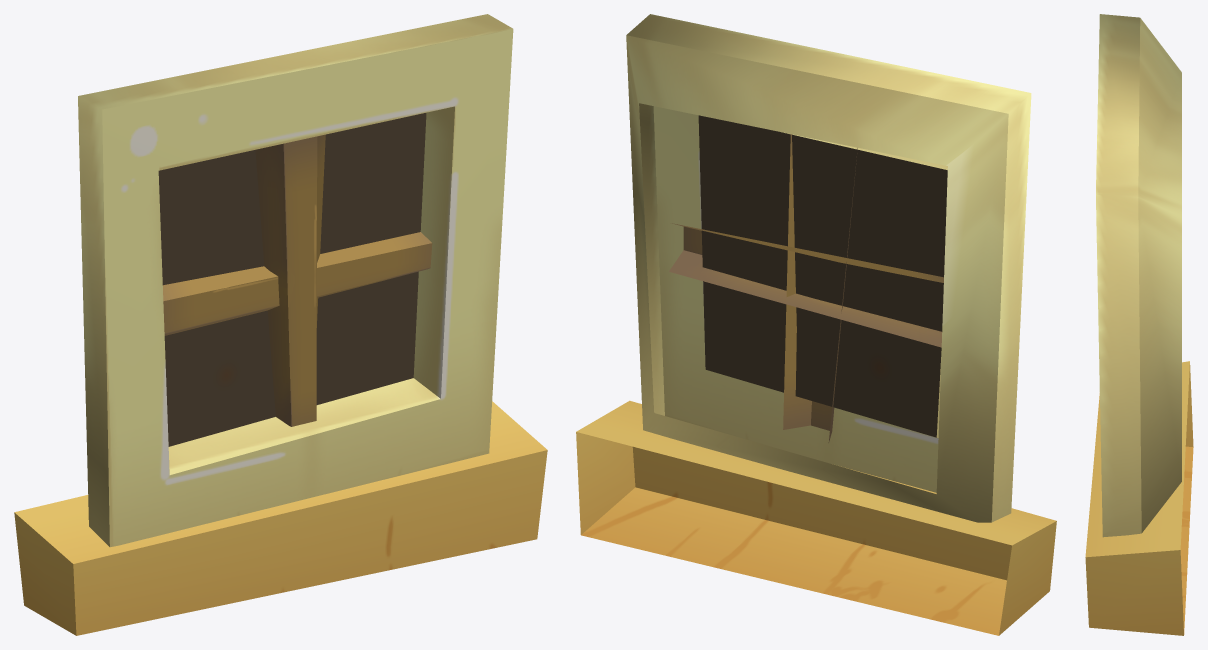
File: Window.FBX
3 views of the same model, side by side, from view 1: azimuth 30°, elevation 25°; view 2: azimuth 150°, elevation 25°; view 3: azimuth 270°, elevation 25° (orthographic). The views are drawn at different scales.
Visible parts, largest first — view 1: Fenetre; view 2: Fenetre; view 3: Fenetre.
Boxes of the visible parts, x1,y1,x2,y2 form: Fenetre: [14, 14, 547, 635]; Fenetre: [576, 14, 1056, 635]; Fenetre: [1085, 14, 1193, 635].
Size of the model in its own units: 9.25 by 10.13 by 2.21.
